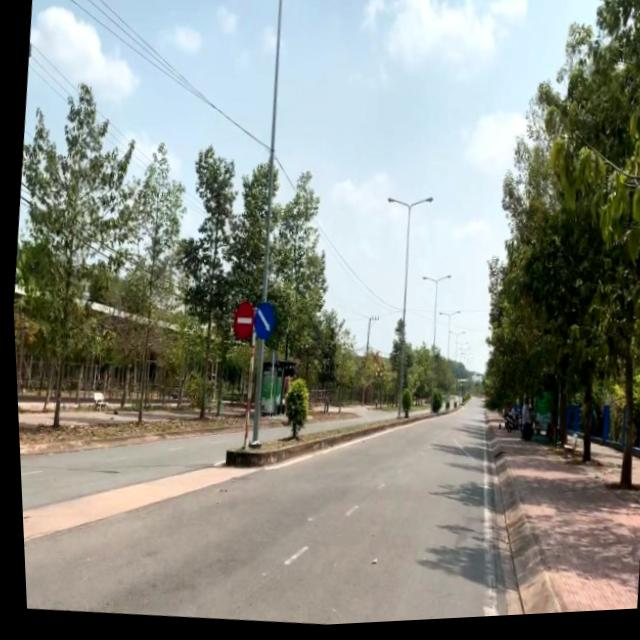Cam di nguoc chieu: (228, 302, 253, 343)
Vong chuong ngai vat sang phai: (248, 303, 273, 344)
